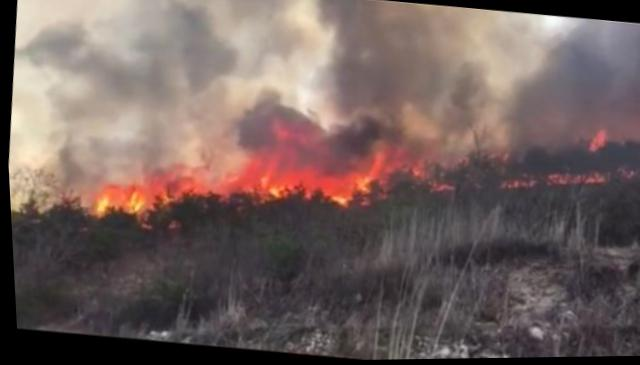fire: (90, 115, 406, 248), (414, 111, 617, 208)
